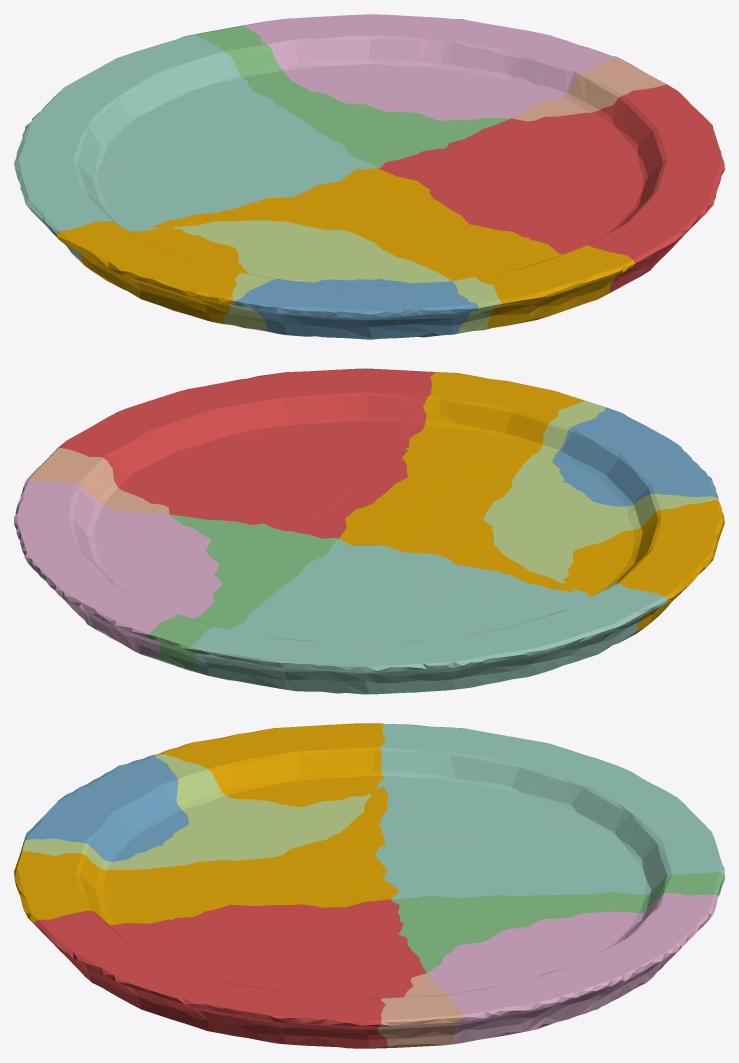
File: fractured_75_8pcs.glb
The picture shows the model from 3 angles, top to bottom: view 1: azimuth 30°, elevation 25°; view 2: azimuth 150°, elevation 25°; view 3: azimuth 270°, elevation 25°; orthographic projection.
Visible parts, largest first — view 1: piece_4.obj, piece_1.obj, piece_0.obj, piece_6.obj, piece_5.obj, piece_2.obj, piece_3.obj, piece_7.obj; view 2: piece_4.obj, piece_1.obj, piece_0.obj, piece_6.obj, piece_5.obj, piece_3.obj, piece_2.obj, piece_7.obj; view 3: piece_4.obj, piece_1.obj, piece_0.obj, piece_6.obj, piece_5.obj, piece_3.obj, piece_2.obj, piece_7.obj.
Part boxes in pixels (left/top/right/bottom): piece_4.obj: left=14, top=34, right=376, bottom=263; piece_1.obj: left=378, top=84, right=724, bottom=292; piece_0.obj: left=56, top=168, right=634, bottom=329; piece_6.obj: left=243, top=14, right=616, bottom=120; piece_5.obj: left=173, top=220, right=501, bottom=333; piece_2.obj: left=234, top=278, right=478, bottom=339; piece_3.obj: left=196, top=25, right=510, bottom=168; piece_7.obj: left=512, top=57, right=667, bottom=121; piece_4.obj: left=188, top=538, right=667, bottom=694; piece_1.obj: left=58, top=368, right=435, bottom=538; piece_0.obj: left=339, top=372, right=724, bottom=634; piece_6.obj: left=14, top=479, right=222, bottom=660; piece_5.obj: left=483, top=400, right=718, bottom=583; piece_3.obj: left=147, top=514, right=339, bottom=671; piece_2.obj: left=552, top=407, right=718, bottom=506; piece_7.obj: left=26, top=447, right=169, bottom=514; piece_4.obj: left=375, top=723, right=724, bottom=899; piece_1.obj: left=33, top=899, right=426, bottom=1048; piece_0.obj: left=14, top=723, right=399, bottom=955; piece_6.obj: left=427, top=892, right=717, bottom=1043; piece_5.obj: left=20, top=754, right=371, bottom=870; piece_3.obj: left=391, top=871, right=724, bottom=972; piece_2.obj: left=23, top=754, right=188, bottom=861; piece_7.obj: left=377, top=973, right=465, bottom=1047.
Bounding box in the file's own units: 1 × 0.0672 × 0.9991.
